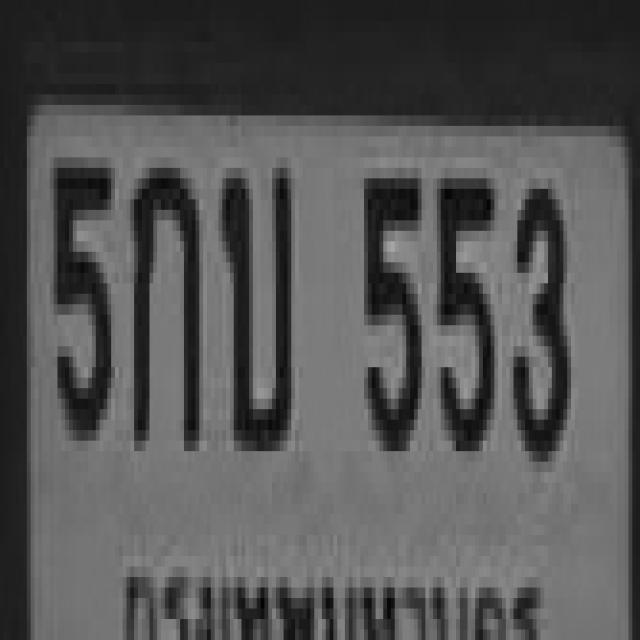10GorGai: (130, 157, 196, 441)
3: (510, 178, 567, 452)
35BorBaiMai: (218, 157, 288, 441)
5: (50, 147, 107, 430), (433, 168, 491, 441), (360, 168, 418, 441)
